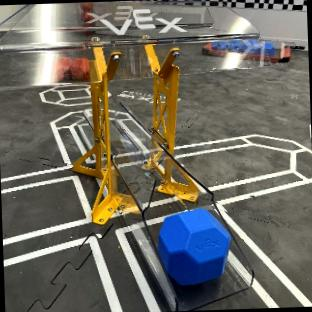Parking-R: (204, 44, 281, 63)
V5_BLUE: (157, 209, 230, 285)
